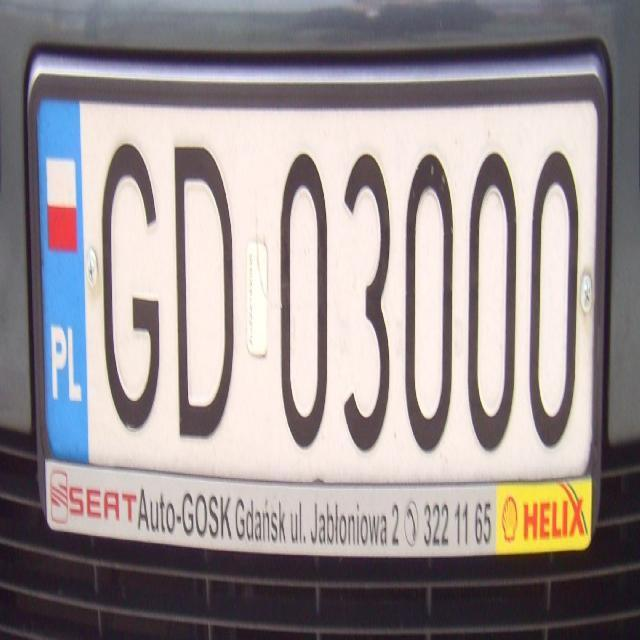License_Plate: (33, 89, 595, 488)
